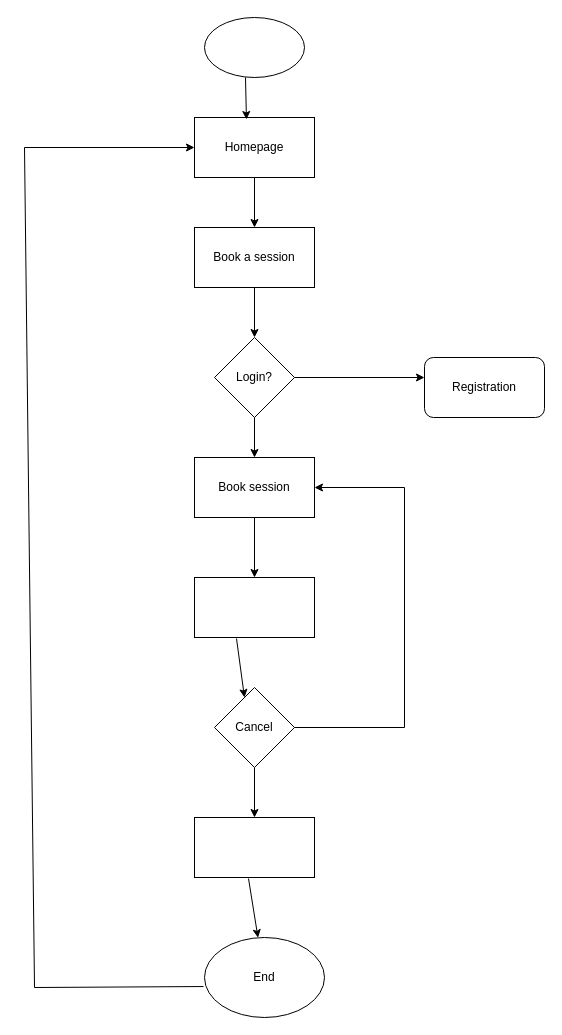
The diagram is 562 pixels wide and 1035 high, and some of its shapes have lost their labels. The box of each missing label's shape, as (x1, y1, x2, y2) in pixels:
Feedback: (194, 816, 314, 878)
payment: (194, 576, 314, 638)
start: (204, 16, 304, 78)
